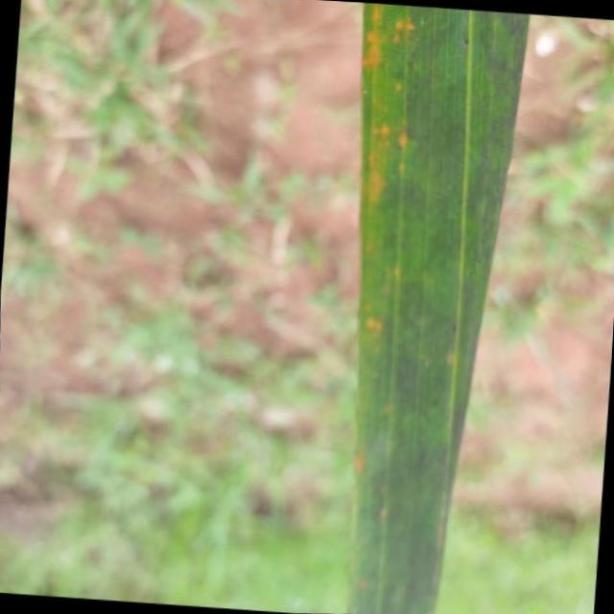Kalium: (360, 0, 529, 614)
